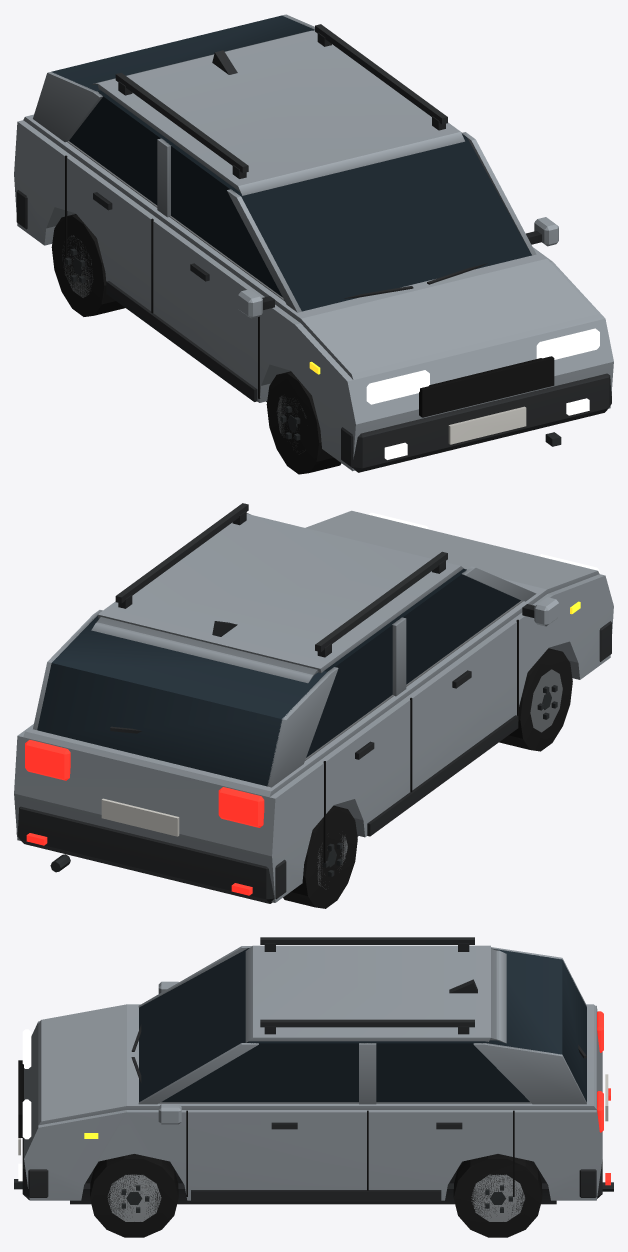
Rendered from car_hatch.glb.
The picture shows the model from 3 angles, top to bottom: view 1: azimuth 30°, elevation 25°; view 2: azimuth 150°, elevation 25°; view 3: azimuth 270°, elevation 25°; orthographic projection. The views are drawn at different scales.
Visible parts, largest first — view 1: car_hatch; view 2: car_hatch; view 3: car_hatch.
Boxes of the visible parts, x1,y1,x2,y2 form: car_hatch: (14, 14, 613, 474); car_hatch: (14, 503, 613, 908); car_hatch: (14, 937, 613, 1237).
Size of the model in its own units: 2.12 by 1.58 by 4.19.
